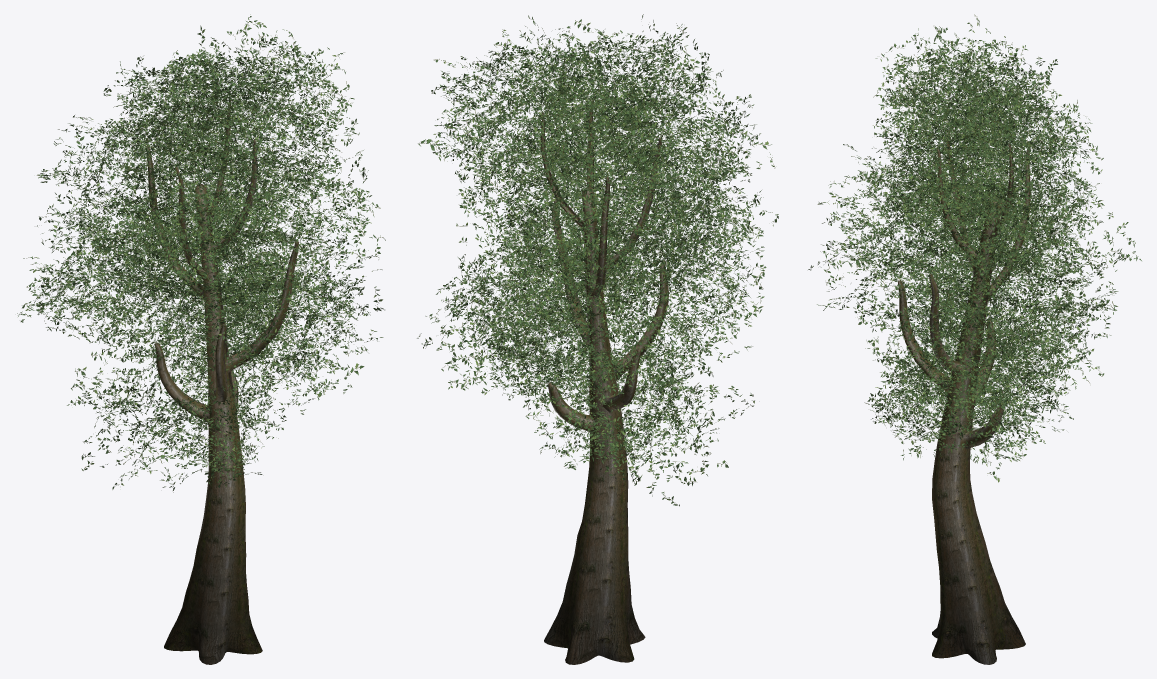
Rendered from upright_broadleaf_01.glb.
The picture shows the model from 3 angles, left to right: view 1: azimuth 30°, elevation 25°; view 2: azimuth 150°, elevation 25°; view 3: azimuth 270°, elevation 25°; orthographic projection. The views are drawn at different scales.
Parts seen in each view (by area): view 1: Upright photographed leaf hybrid; view 2: Upright photographed leaf hybrid; view 3: Upright photographed leaf hybrid.
Part boxes in pixels (box(x1,y1,x2,y2)): Upright photographed leaf hybrid: box(17, 14, 385, 664); Upright photographed leaf hybrid: box(417, 14, 778, 664); Upright photographed leaf hybrid: box(808, 14, 1141, 664).
Bounding box in the file's own units: 5.57 × 9.43 × 4.83.
2 materials, 2 textured.
